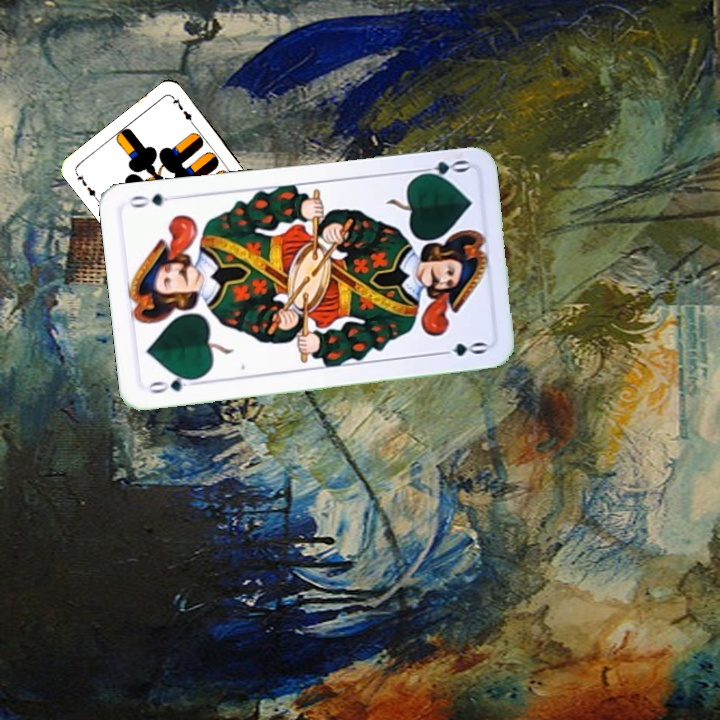E7: (72, 169, 101, 203)
GO: (411, 156, 471, 182), (143, 371, 203, 396)
